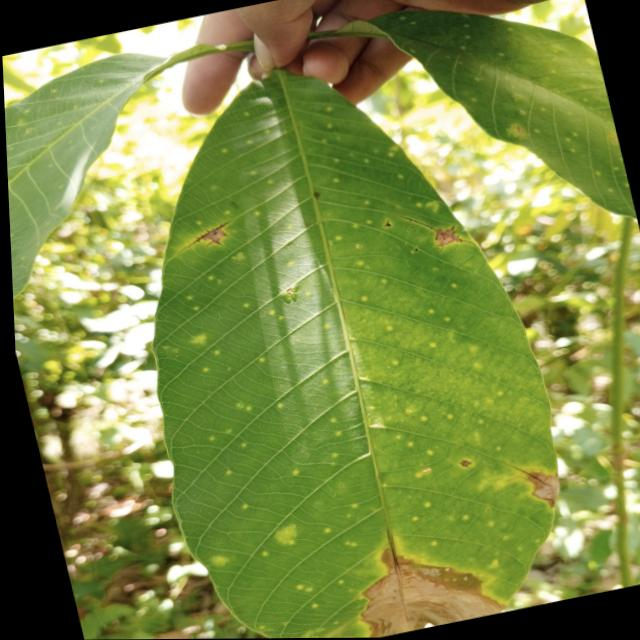Corynespora: (393, 202, 474, 261), (170, 221, 234, 255), (454, 459, 468, 469), (380, 220, 390, 229)
Leaf-Blight: (341, 527, 502, 638), (522, 469, 560, 512)
